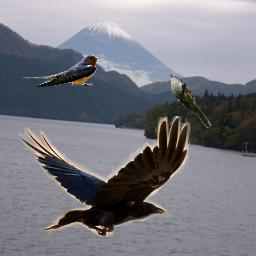Crow: (18, 116, 191, 237)
Cuckoo: (170, 74, 211, 128)
Swallow: (21, 54, 98, 87)
